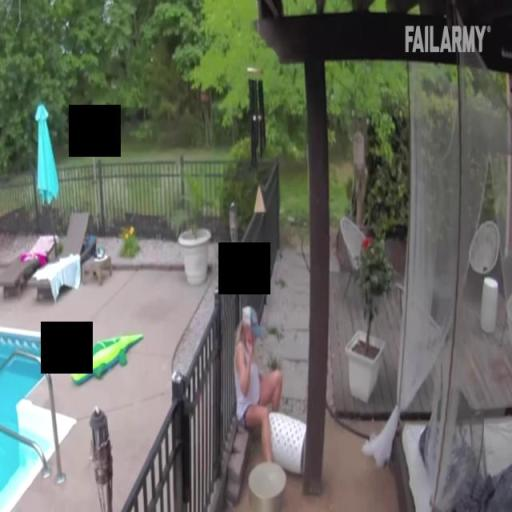Fall: (233, 304, 285, 465)
